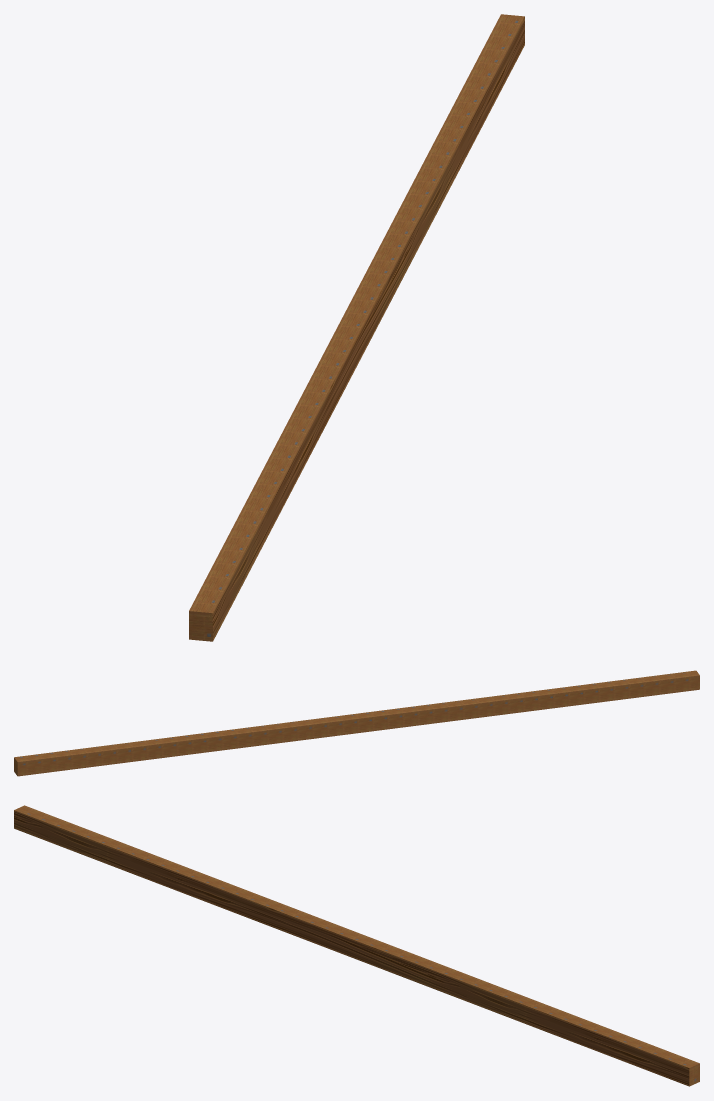
The picture shows the model from 3 angles, top to bottom: view 1: azimuth 30°, elevation 25°; view 2: azimuth 150°, elevation 25°; view 3: azimuth 270°, elevation 25°; orthographic projection. The views are drawn at different scales.
Parts seen in each view (by area): view 1: Cube.1894; view 2: Cube.1894; view 3: Cube.1894.
Boxes of the visible parts, x1,y1,x2,y2 form: Cube.1894: (189,14,524,641); Cube.1894: (14,670,699,776); Cube.1894: (14,805,699,1086).
Bounding box in the file's own units: 595 × 23.82 × 645.
1 material, 1 textured.
